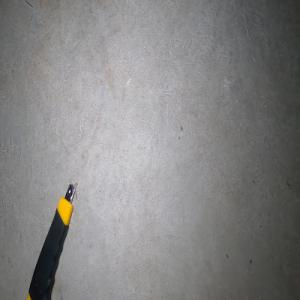Cutter: (26, 182, 78, 300)
